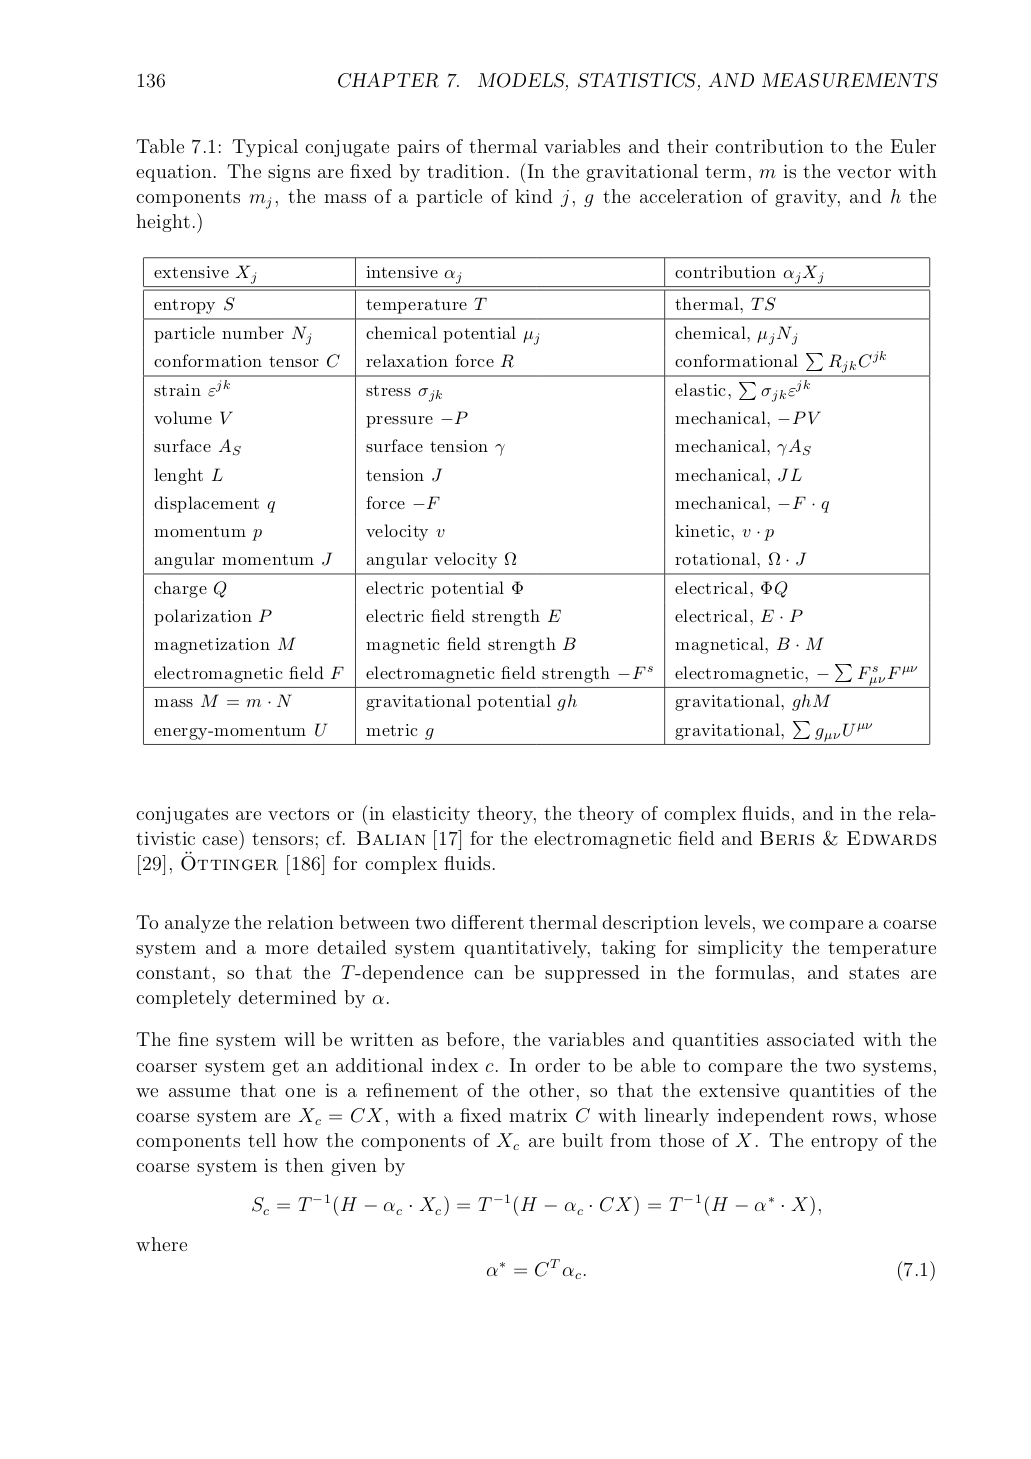Table: (143, 255, 929, 745)
formula: (252, 1194, 820, 1216), (486, 1258, 934, 1281)
